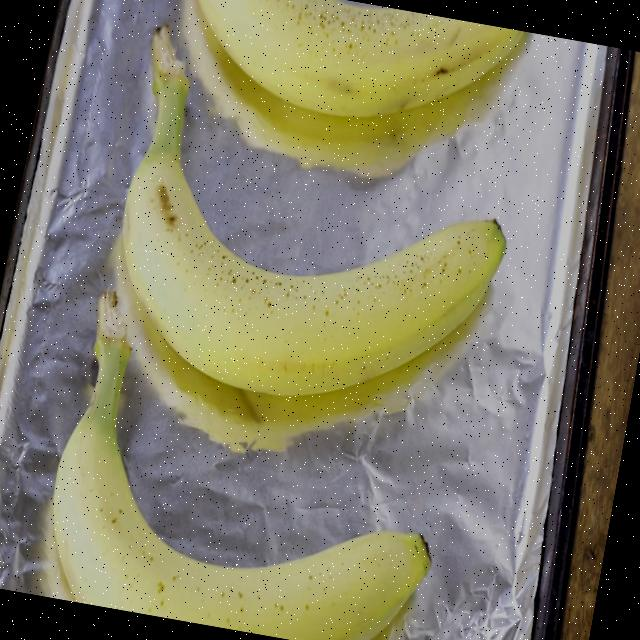Ripe: (66, 38, 556, 456), (0, 284, 494, 640), (155, 0, 551, 143)
